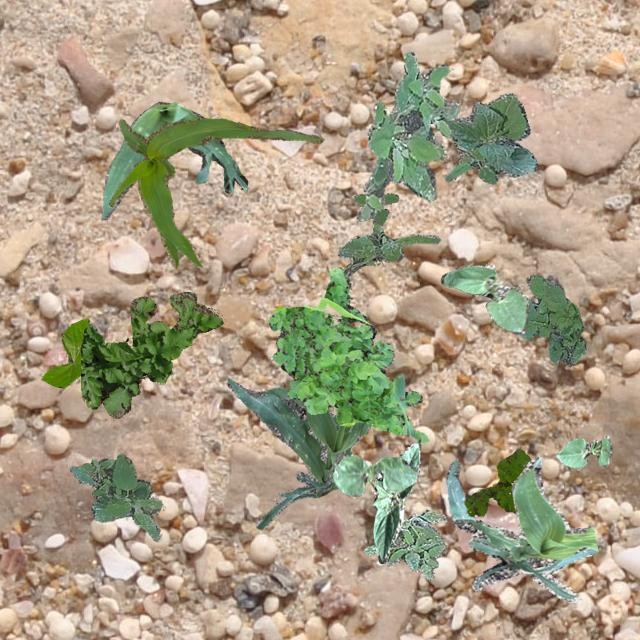crop: (108, 116, 322, 268), (446, 457, 598, 602), (226, 376, 370, 528), (100, 100, 247, 218), (444, 91, 536, 182), (439, 264, 528, 334), (370, 440, 420, 562), (332, 454, 418, 496), (41, 318, 88, 387), (556, 434, 612, 468)
weed: (268, 266, 428, 442), (80, 290, 222, 418), (356, 51, 460, 220), (68, 452, 162, 540), (520, 274, 584, 364), (364, 508, 446, 578), (336, 223, 439, 276), (462, 448, 530, 516), (352, 192, 398, 226)
